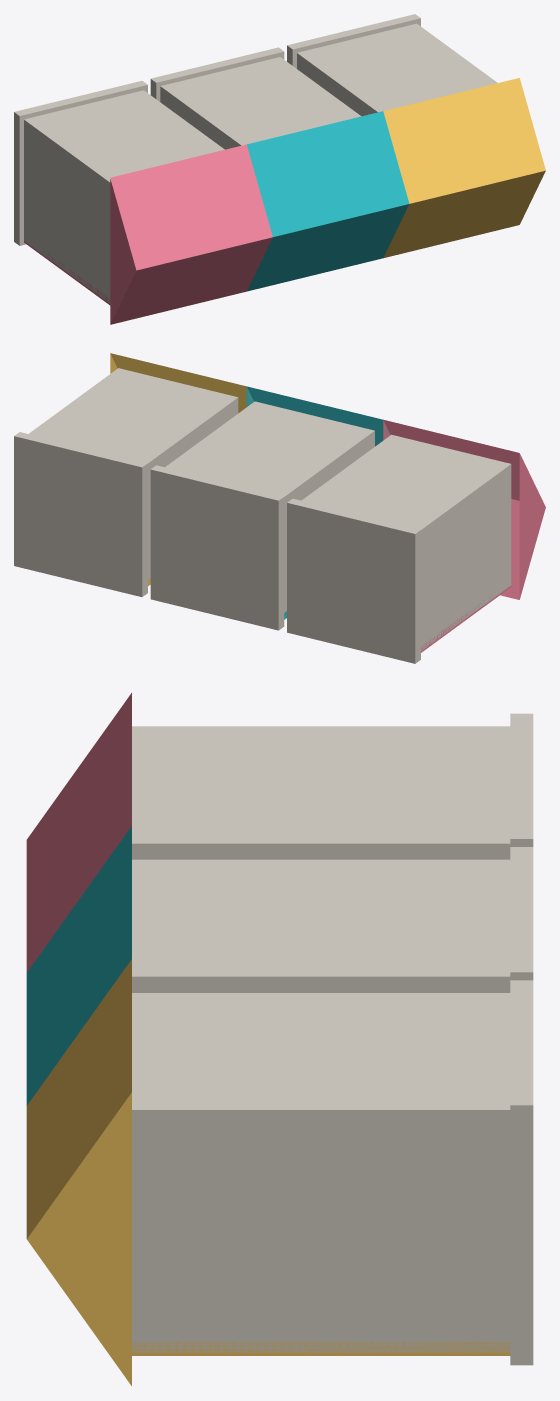
The model's file is cabines.glb.
3 renders of one model, top to bottom at view 1: azimuth 30°, elevation 25°; view 2: azimuth 150°, elevation 25°; view 3: azimuth 270°, elevation 25°, orthographic. The views are drawn at different scales.
Visible parts, largest first — view 1: toit, toit.002, toit.001, cote, dos.001, dos, dos.002, socle, cote.004, cote.002, socle.001, socle.002 (+3 smaller); view 2: socle.001, socle, socle.002, cote, dos.001, dos.002, dos, toit, toit.001, cote.002, toit.002, cote.004 (+4 smaller); view 3: cote.005, dos.002, dos.001, dos, toit.002, toit, toit.001, socle.002, cote.001, cote.003, planche.020, socle (+4 smaller).
Part boxes in pixels (left/top/right/bottom): toit: left=110, top=144, right=272, bottom=324; toit.002: left=383, top=78, right=545, bottom=258; toit.001: left=246, top=111, right=409, bottom=291; cote: left=24, top=118, right=110, bottom=303; dos.001: left=161, top=58, right=360, bottom=146; dos: left=24, top=90, right=223, bottom=187; dos.002: left=297, top=24, right=496, bottom=112; socle: left=14, top=81, right=147, bottom=245; cote.004: left=297, top=51, right=382, bottom=116; cote.002: left=160, top=86, right=246, bottom=149; socle.001: left=150, top=47, right=284, bottom=101; socle.002: left=287, top=14, right=420, bottom=68; socle.001: left=150, top=465, right=284, bottom=630; socle: left=287, top=498, right=420, bottom=663; socle.002: left=14, top=432, right=147, bottom=596; cote: left=416, top=462, right=511, bottom=650; dos.001: left=165, top=402, right=374, bottom=498; dos.002: left=33, top=369, right=237, bottom=468; dos: left=302, top=435, right=511, bottom=534; toit: left=383, top=419, right=545, bottom=599; toit.001: left=246, top=386, right=389, bottom=446; cote.002: left=280, top=430, right=374, bottom=612; toit.002: left=110, top=353, right=252, bottom=413; cote.004: left=144, top=396, right=238, bottom=582; cote.005: left=132, top=1105, right=510, bottom=1352; dos.002: left=132, top=993, right=510, bottom=1120; dos.001: left=132, top=859, right=510, bottom=987; dos: left=132, top=726, right=510, bottom=853; toit.002: left=26, top=959, right=131, bottom=1385; toit: left=26, top=693, right=131, bottom=972; toit.001: left=26, top=826, right=131, bottom=1105; socle.002: left=510, top=980, right=533, bottom=1365; cote.001: left=132, top=838, right=510, bottom=859; cote.003: left=132, top=972, right=510, bottom=992; planche.020: left=132, top=1342, right=510, bottom=1355; socle: left=510, top=713, right=533, bottom=846.
Size of the model in its own units: 4.95 by 1.7 by 2.65.
